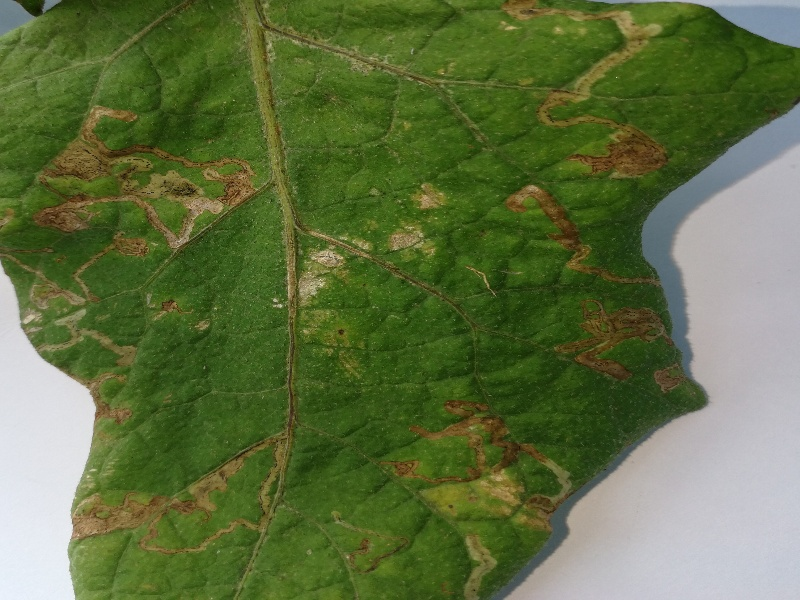leafminer: (68, 420, 295, 600), (24, 101, 263, 248), (498, 4, 678, 184), (1, 229, 157, 429), (375, 394, 571, 528), (498, 183, 663, 293), (550, 284, 685, 403), (448, 529, 497, 600)
